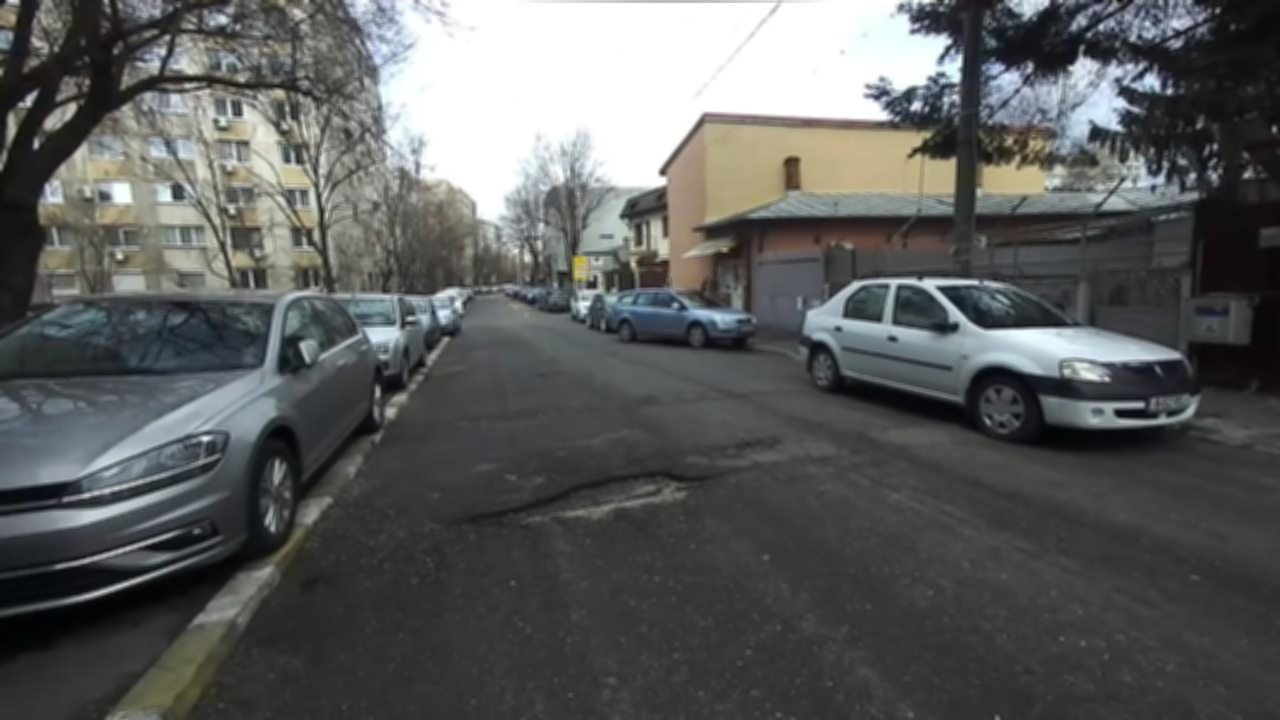pothole: (457, 467, 736, 526), (708, 430, 787, 454)
